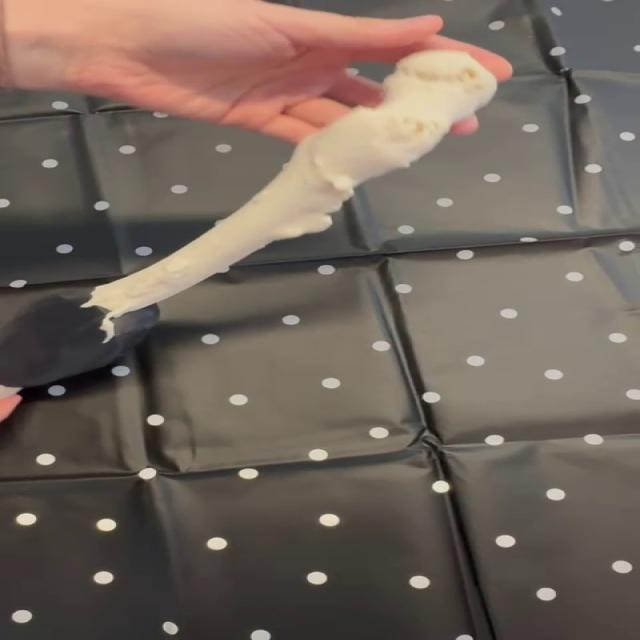bones: (0, 52, 497, 396)
